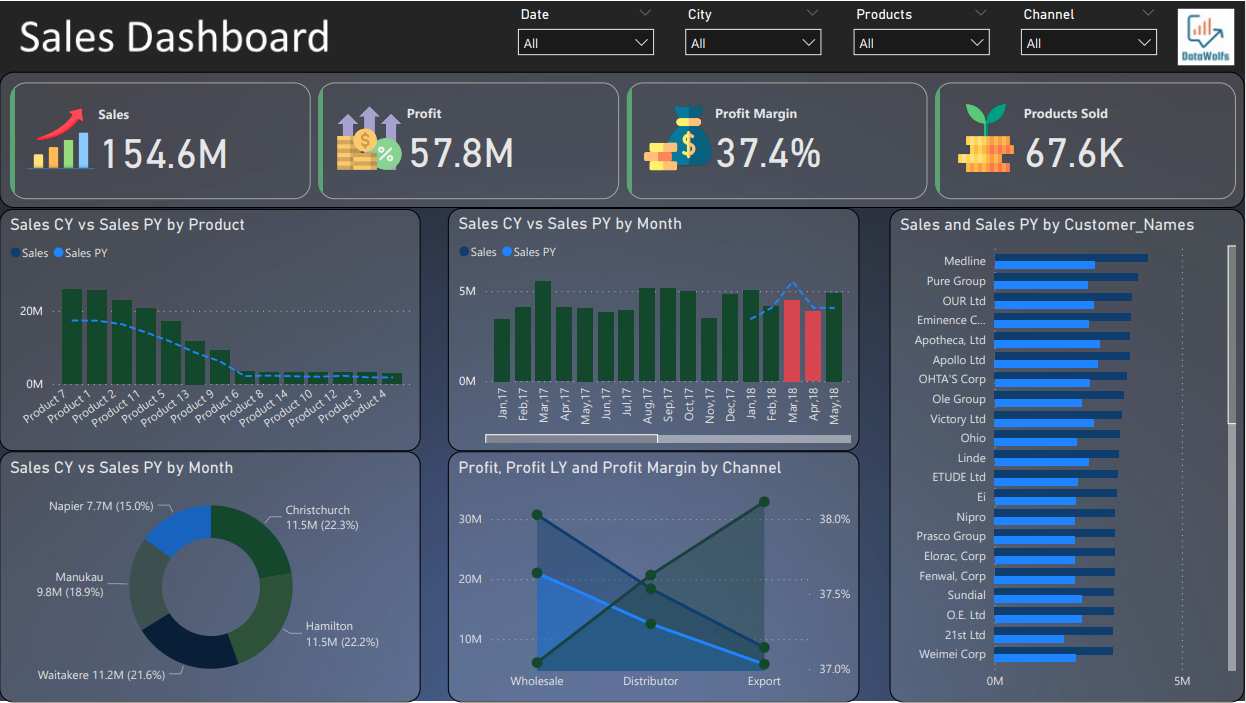

Layout of this report page (visuals, bound fields, positions):
{"tool":"powerbi","page":{"name":"2","canvas":[1280,720],"ordinal":2},"visuals":[{"type":"slicer","fields":{"Values":["DateTable.Year","DateTable.Month Short Name Plus Year"]},"box":[523,0,160,71.7],"z":0},{"type":"slicer","fields":{"Values":["Regions_Table.City"]},"box":[695.4,0,160,71.7],"z":1000},{"type":"slicer","fields":{"Values":["Products_Data.Product_Name"]},"box":[867.8,0,160,72],"z":2000},{"type":"slicer","fields":{"Values":["Sales_Data.Channel"]},"box":[1040.3,0.2,160,71.3],"z":3000},{"type":"lineClusteredColumnComboChart","title":"Sales CY vs Sales PY by Product","fields":{"Category":["Products_Data.Product_Name"],"Y":["Measure.Sales"],"Y2":["Measure.Sales PY"]},"box":[0,202.6,433.8,248.3],"z":4000},{"type":"lineClusteredColumnComboChart","title":"Sales CY vs Sales PY by Month","fields":{"Y":["Measure.Sales"],"Y2":["Measure.Sales PY"],"Category":["DateTable.Month Short Name Plus Year"]},"box":[449.5,202.6,433.8,249.7],"z":5000},{"type":"donutChart","title":"Sales CY vs Sales PY by Month","fields":{"Category":["Regions_Table.City"],"Y":["Measure.Sales"]},"box":[0,452.4,433.8,268.3],"z":6000},{"type":"areaChart","fields":{"Category":["Sales_Data.Channel"],"Y":["Measure.Profit","Measure.Profit LY"],"Y2":["Measure.Profit Margin"]},"box":[449.5,452.4,433.8,268.3],"z":7000},{"type":"clusteredBarChart","fields":{"Y":["Measure.Sales","Measure.Sales PY"],"Category":["Customer_Data.Customer_Names"]},"box":[900.4,202.6,379.6,518],"z":8000},{"type":"cardVisual","fields":{"Data":["Measure.Sales","Measure.Profit","Measure.Profit Margin","Measure.Products Sold"]},"box":[0,71.3,1280,131.3],"z":9000},{"type":"cardVisual","title":"Vs PY","fields":{"Data":["Measure.Sales vs LY %"]},"box":[229.7,91.3,87,91.3],"z":10000},{"type":"cardVisual","title":"Vs PY","fields":{"Data":["Measure.Profit vs LY %"]},"box":[539.4,91.3,87,91.3],"z":11000}]}

Visuals, with their boxes in screenshot pixels (x1, y1, x2, y2), scaled from the page's 1280x720 canvas onto the 1246x703 screenshot:
slicer - DateTable.Year x DateTable.Month Short Name Plus Year: BBox(509, 0, 665, 70)
slicer - Regions_Table.City: BBox(677, 0, 833, 70)
slicer - Products_Data.Product_Name: BBox(845, 0, 1000, 70)
slicer - Sales_Data.Channel: BBox(1013, 0, 1168, 70)
"Sales CY vs Sales PY by Product" lineClusteredColumnComboChart: BBox(0, 198, 422, 440)
"Sales CY vs Sales PY by Month" lineClusteredColumnComboChart: BBox(438, 198, 860, 442)
"Sales CY vs Sales PY by Month" donutChart: BBox(0, 442, 422, 702)
areaChart - Sales_Data.Channel x Measure.Profit: BBox(438, 442, 860, 702)
clusteredBarChart - Measure.Sales x Measure.Sales PY: BBox(876, 198, 1245, 702)
cardVisual - Measure.Sales x Measure.Profit: BBox(0, 70, 1245, 198)
"Vs PY" cardVisual: BBox(224, 89, 308, 178)
"Vs PY" cardVisual: BBox(525, 89, 610, 178)
